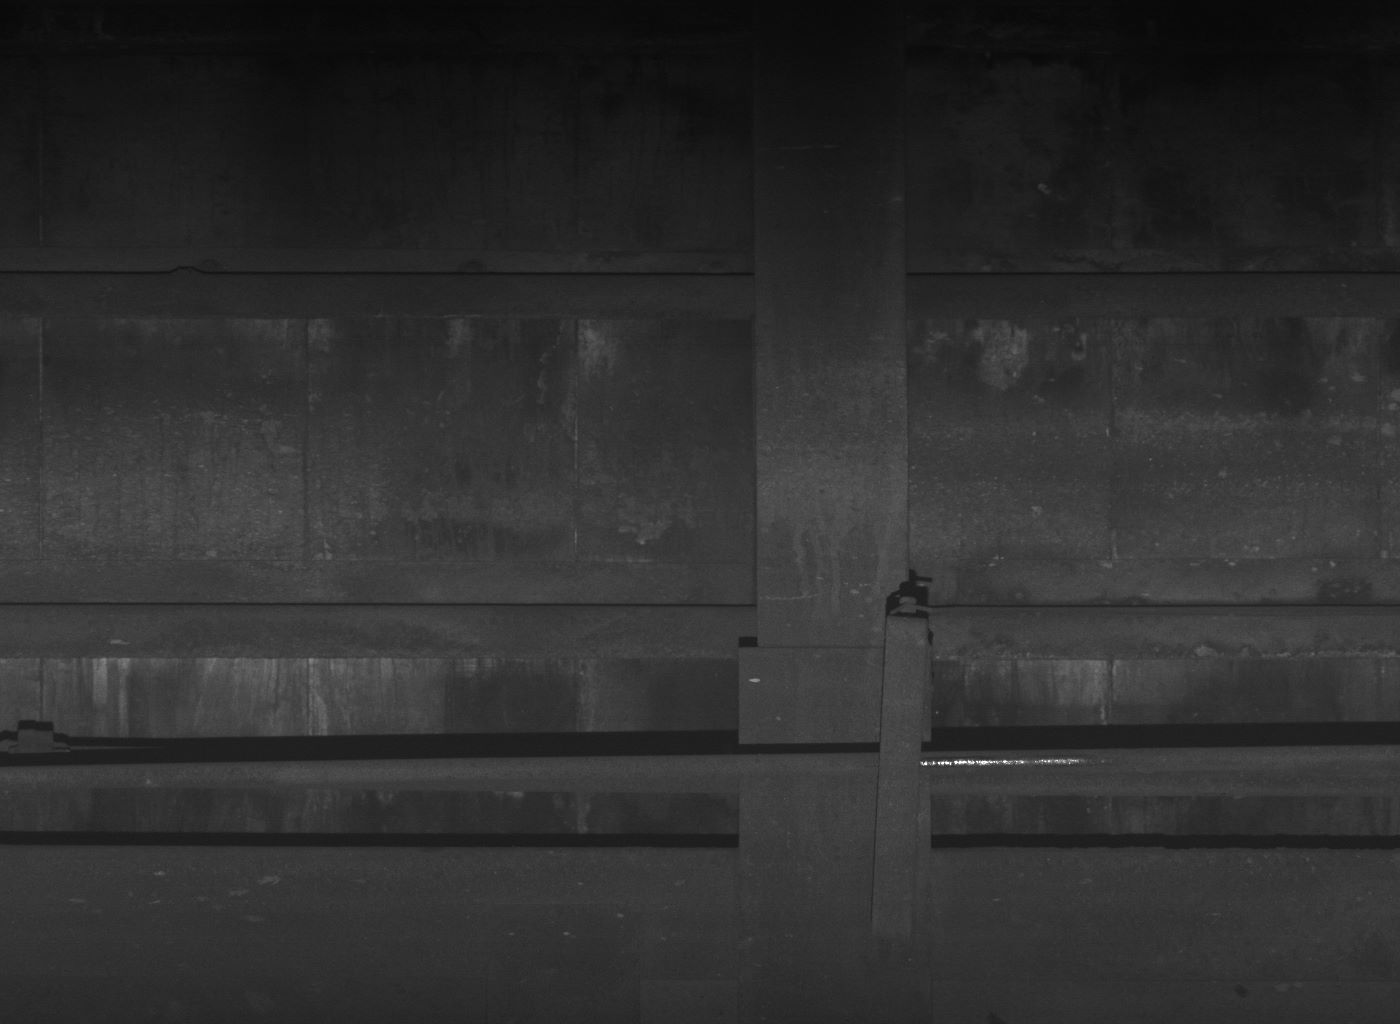normal: (873, 595, 932, 938)
